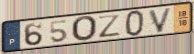0: (125, 9, 146, 38)
5: (49, 19, 69, 43)
6: (23, 22, 44, 47)
O: (70, 15, 99, 43)
V: (147, 6, 173, 34)
Z: (97, 13, 123, 39)
